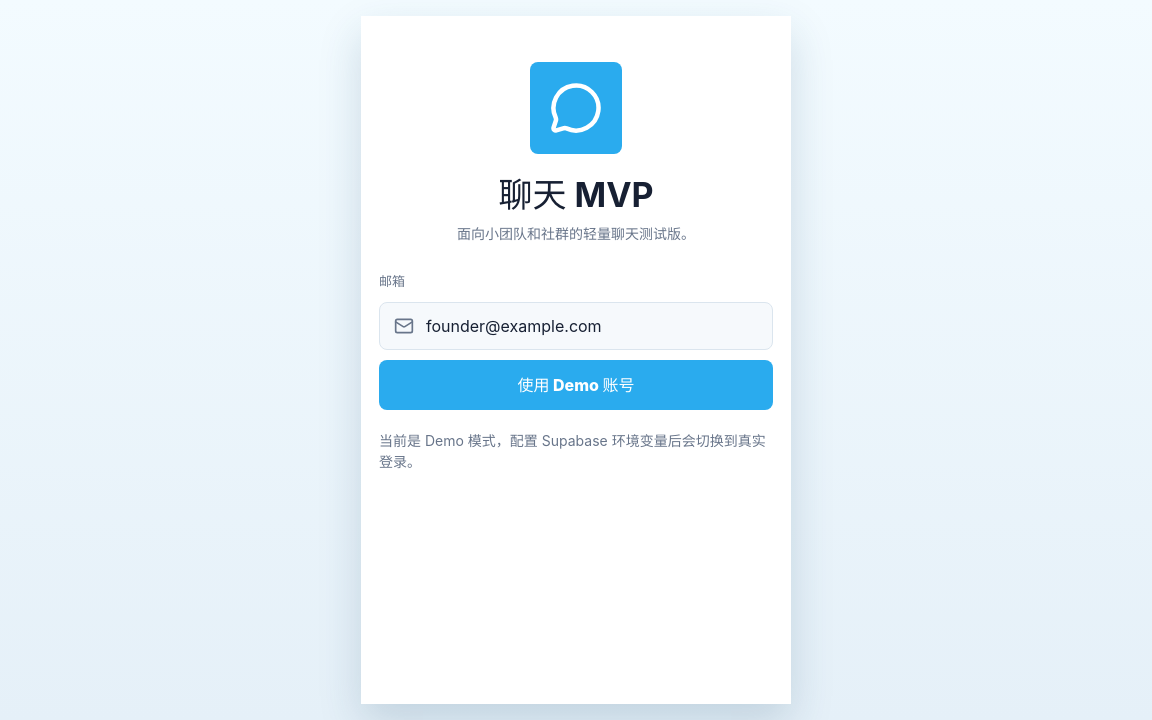
it: 聊天 MVP › sends a demo text message inside a conversation
Click the button "使用 Demo 账号" at (576, 385), box 379,360 -> 773,410
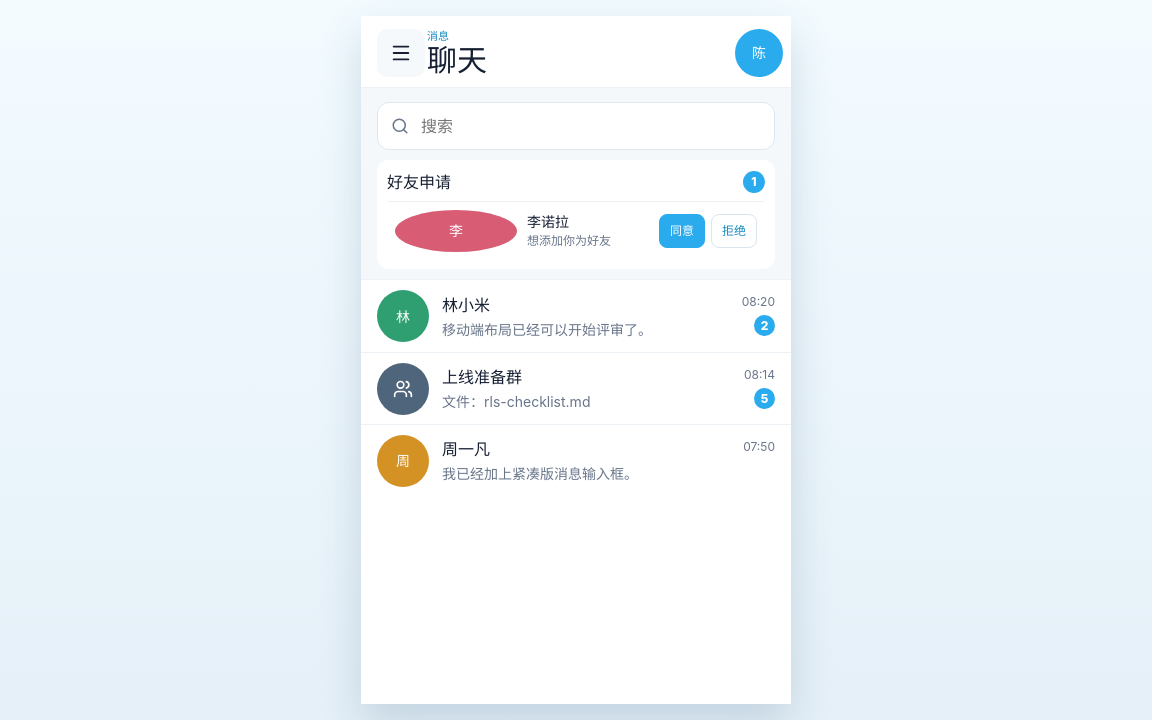
Click the text "林小米" at (466, 304), box 442,294 -> 490,314
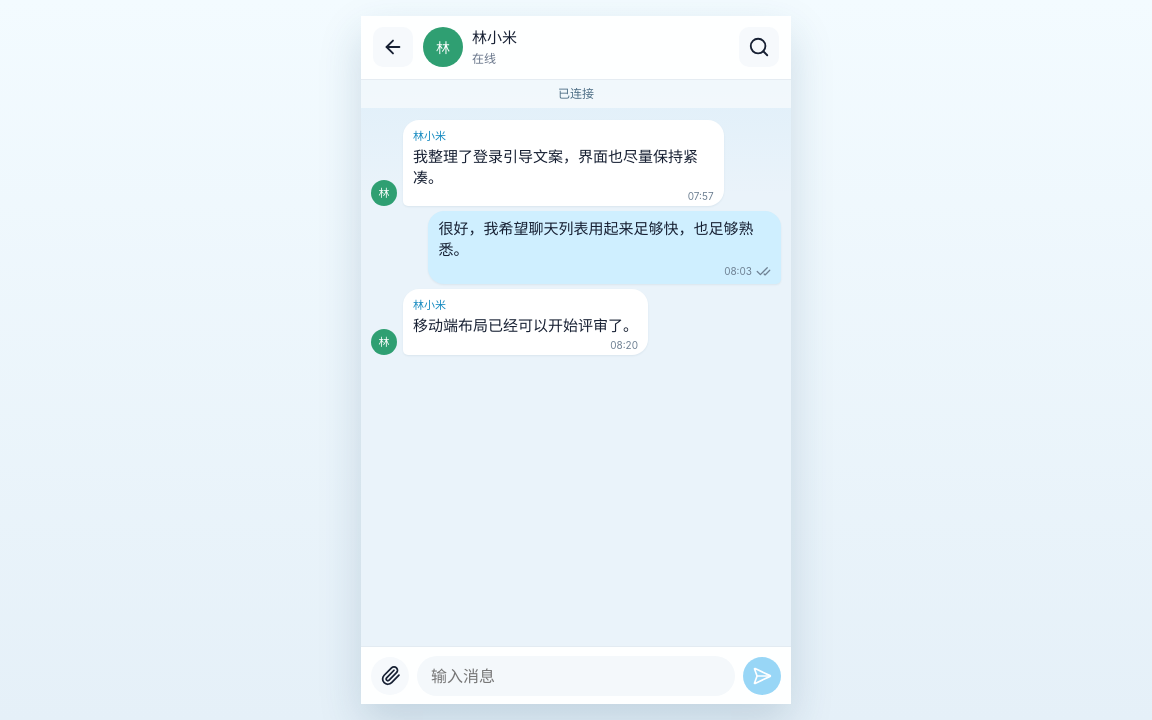
Type "第一版移动聊天 MVP 可以发出去了。" into the field labelled "消息" at (576, 676), box 417,656 -> 735,696
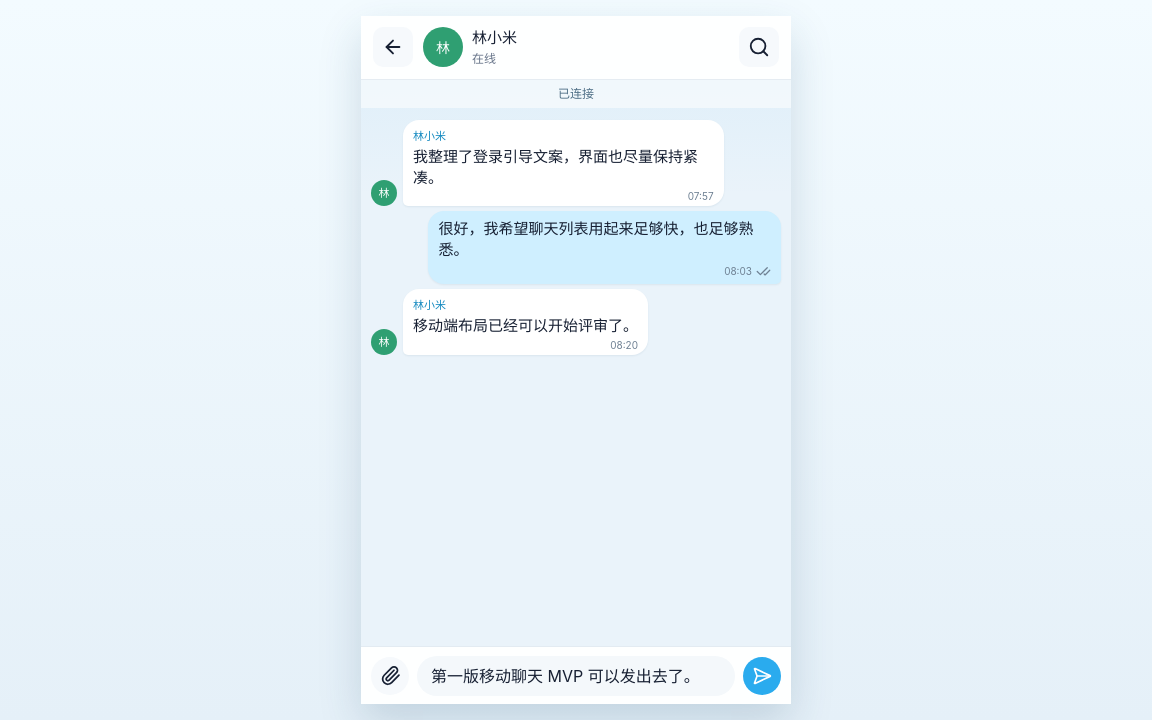
Click the button named "发送消息" at (762, 676), box 743,656 -> 781,694
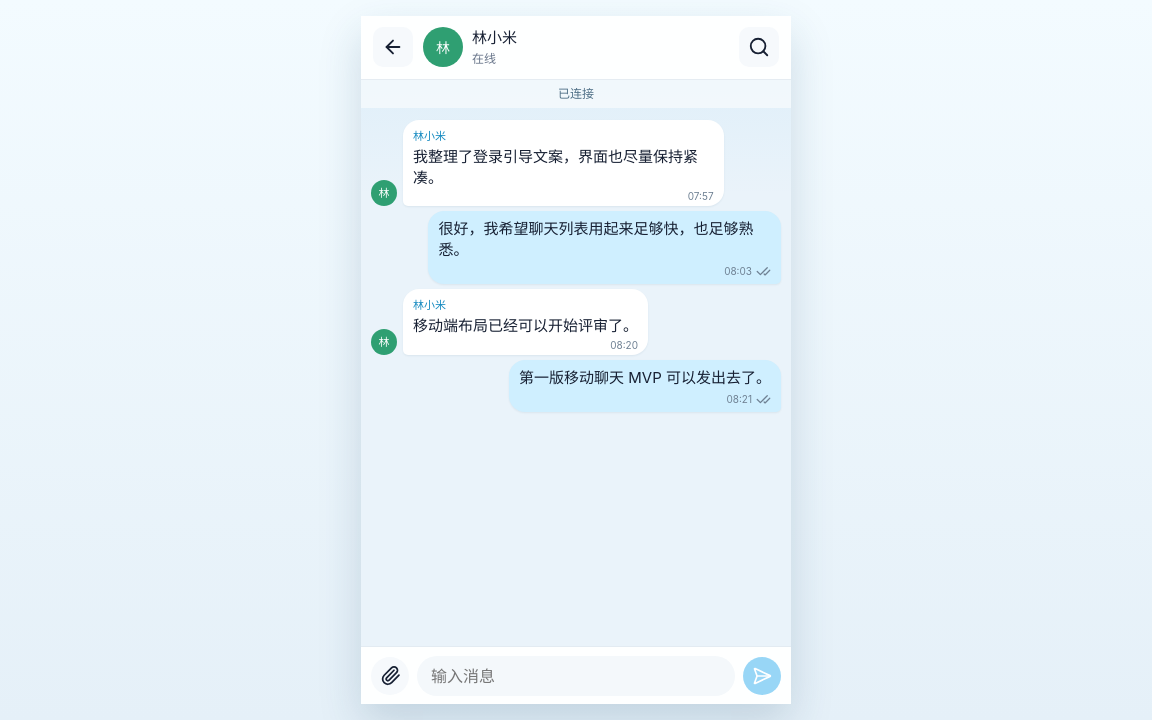
expect the text "第一版移动聊天 MVP 可以发出去了。" is shown: met, box 519,368 -> 771,389
